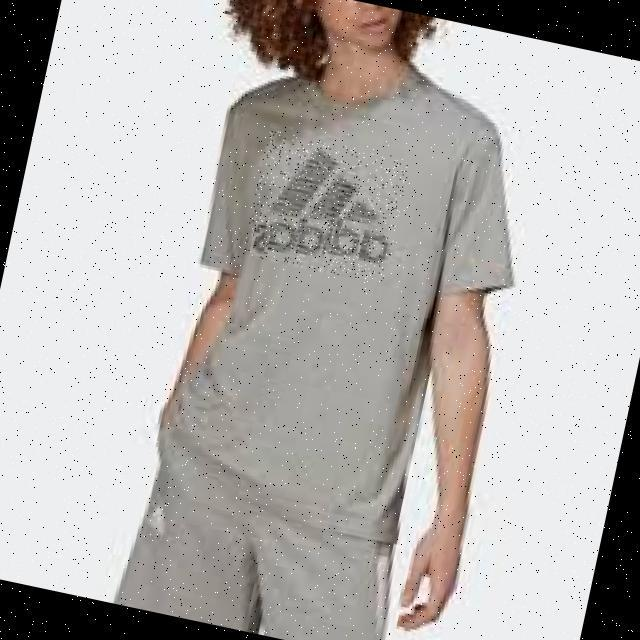Adidas: (242, 129, 410, 285)
